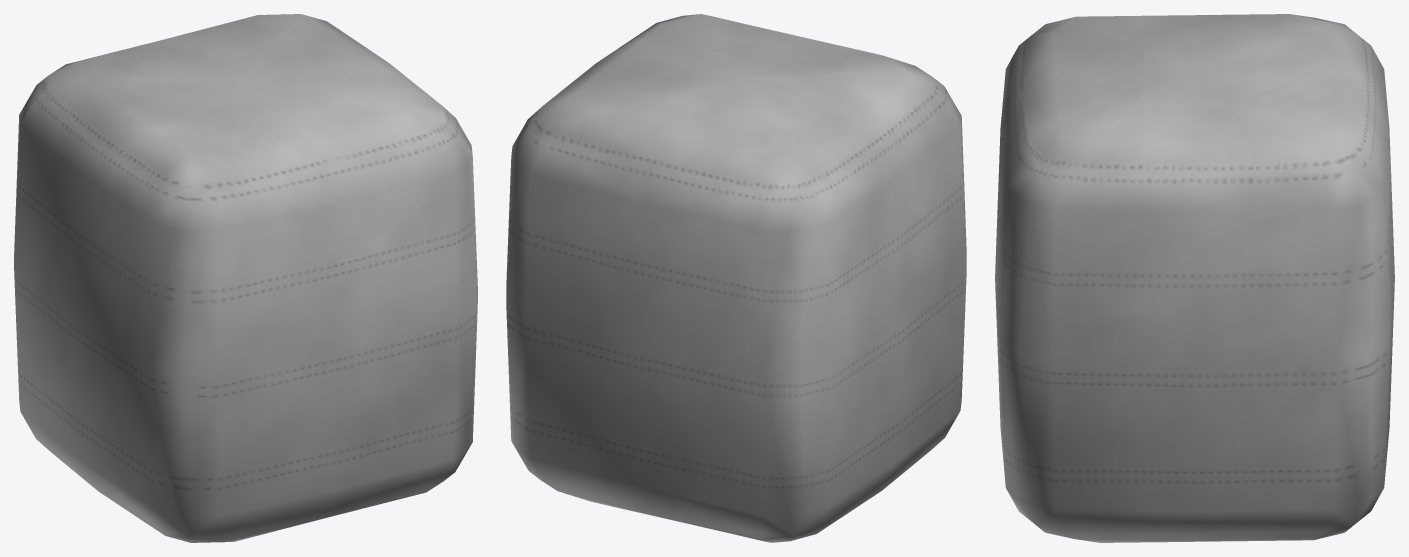
Rendered from LeftLowerLeg_C1.fbx.
3 renders of one model, left to right at view 1: azimuth 30°, elevation 25°; view 2: azimuth 150°, elevation 25°; view 3: azimuth 270°, elevation 25°, orthographic. The views are drawn at different scales.
Visible parts, largest first — view 1: Civ_Jean_LeftLowerLeg_C1; view 2: Civ_Jean_LeftLowerLeg_C1; view 3: Civ_Jean_LeftLowerLeg_C1.
Part boxes in pixels (x1,y1,x2,y2): Civ_Jean_LeftLowerLeg_C1: (14, 14, 477, 542); Civ_Jean_LeftLowerLeg_C1: (506, 14, 966, 542); Civ_Jean_LeftLowerLeg_C1: (995, 14, 1394, 542).
Size of the model in its own units: 1.21 by 1.37 by 1.19.
